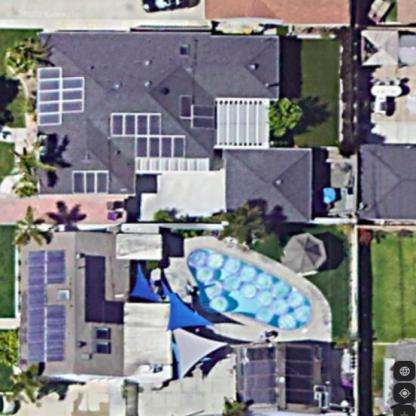solar_panel: (27, 241, 74, 367), (107, 106, 194, 165), (81, 246, 127, 339), (38, 62, 87, 132), (277, 339, 321, 411), (240, 347, 281, 409), (174, 90, 219, 140), (72, 165, 117, 198)
swimming_pool: (172, 238, 330, 340)
